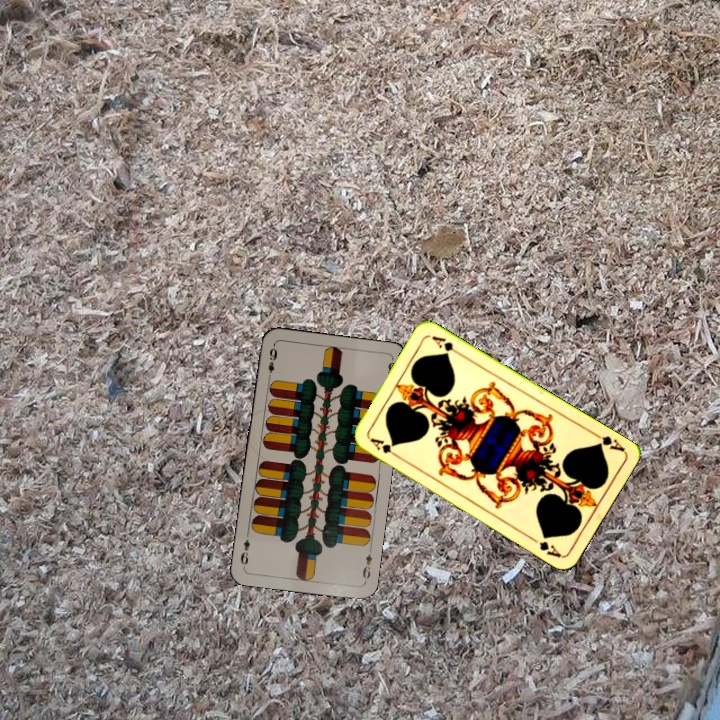E9: (358, 544, 375, 585), (264, 342, 280, 382)
GA: (589, 428, 627, 454), (366, 434, 402, 461)
